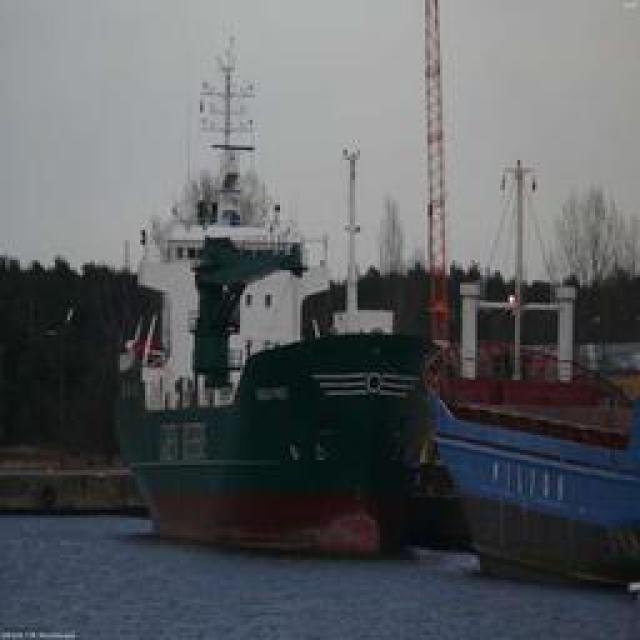Ship: (106, 44, 436, 569)
